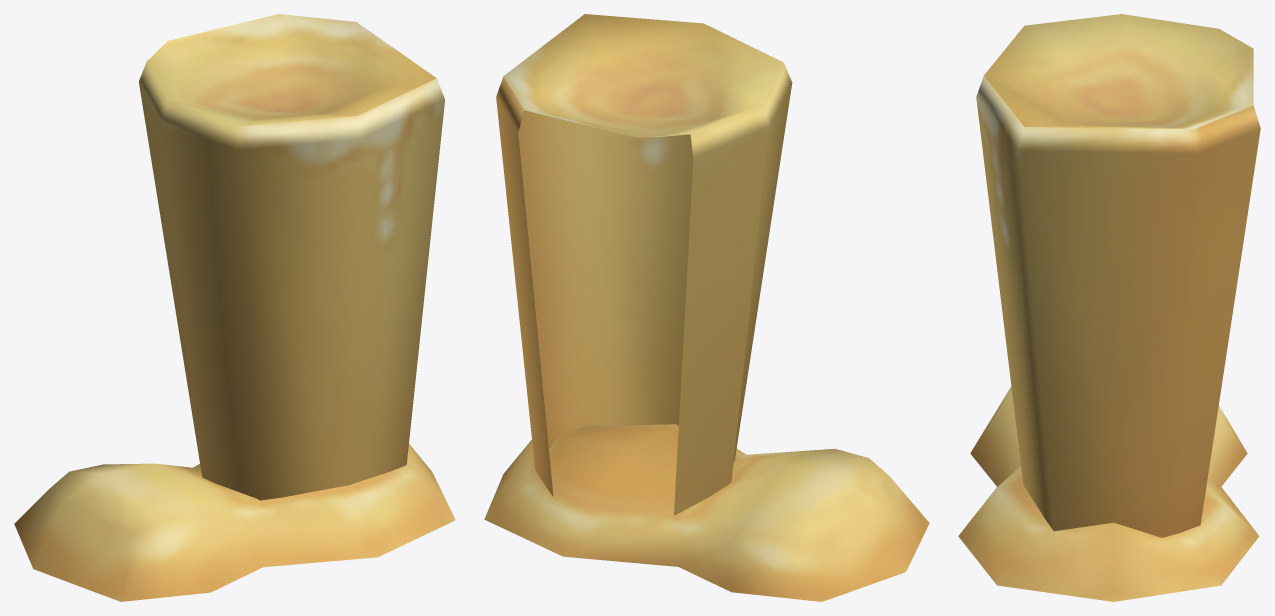
Rendered from item_lazhu_01.fbx.
3 renders of one model, left to right at view 1: azimuth 30°, elevation 25°; view 2: azimuth 150°, elevation 25°; view 3: azimuth 270°, elevation 25°, orthographic. The views are drawn at different scales.
Visible parts, largest first — view 1: item_lazhu_01, item_lazhu_02; view 2: item_lazhu_01, item_lazhu_02; view 3: item_lazhu_01, item_lazhu_02.
Boxes of the visible parts, x1,y1,x2,y2 form: item_lazhu_01: (139,14,444,500); item_lazhu_02: (14,444,455,601); item_lazhu_01: (496,14,792,515); item_lazhu_02: (484,424,929,601); item_lazhu_01: (976,14,1260,537); item_lazhu_02: (958,386,1259,601).
Size of the model in its own units: 18.68 by 19.44 by 11.68.
